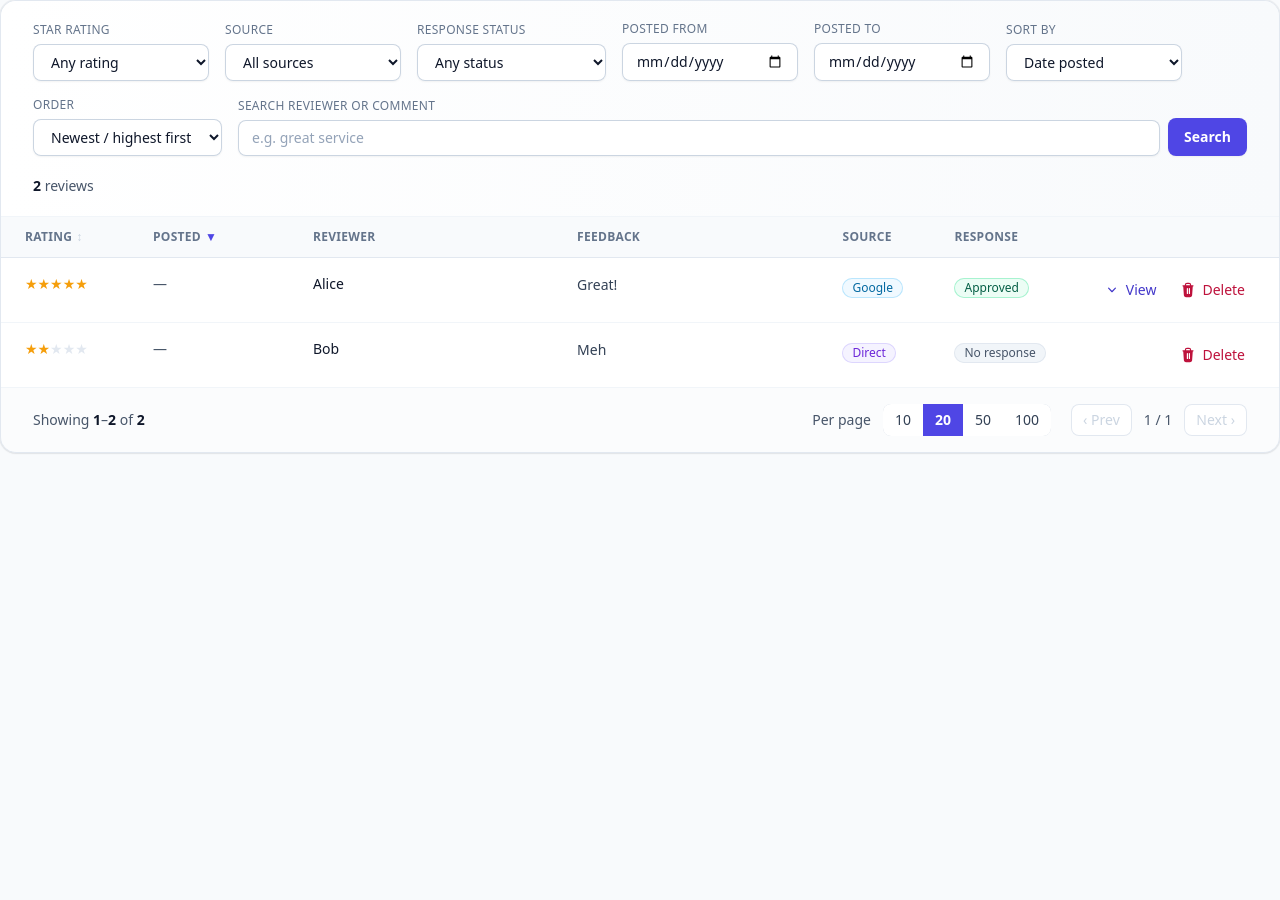
Test: Review Management — ReviewPanel › AI response workflow — expand, accept, regenerate › hides Accept for an already-APPROVED response (operator cannot re-approve)
Click the button "View": (1130, 290) [1094, 274, 1166, 306]
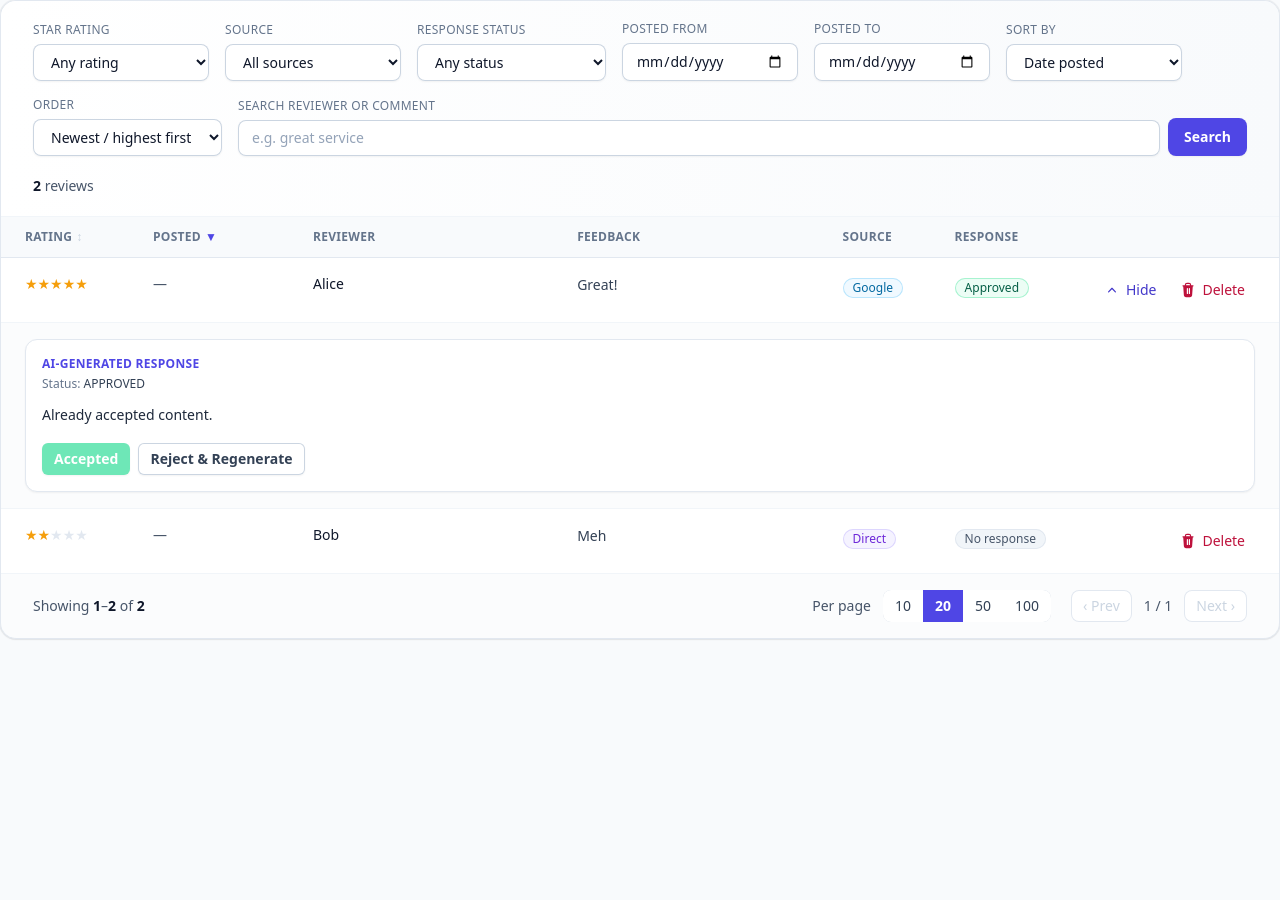
expect the button with test id "approve-response-r1" is disabled: met, box [42, 443, 130, 475]
expect the button with test id "regenerate-response-r1" is enabled: met, box [138, 443, 304, 475]
